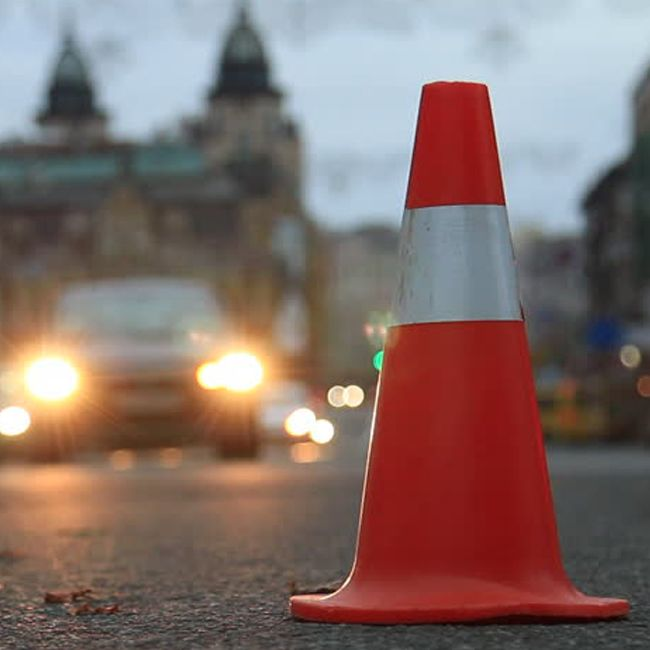Road_cone: (277, 76, 632, 625)
